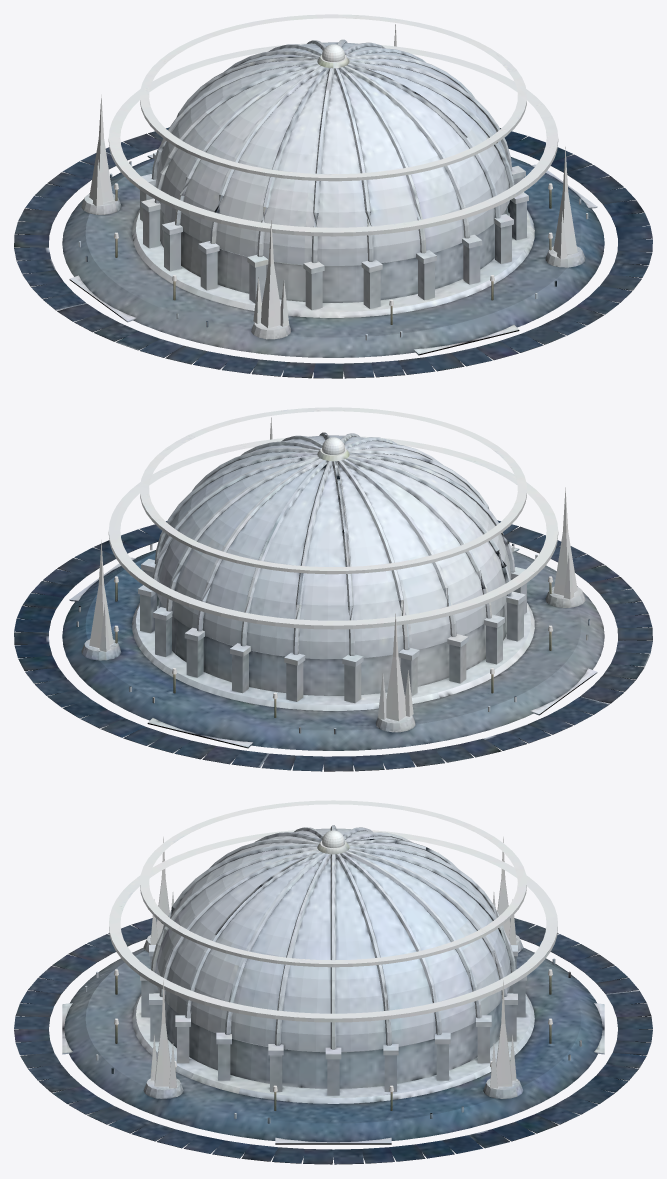
Rendered from ether_dome_low.glb.
The picture shows the model from 3 angles, top to bottom: view 1: azimuth 30°, elevation 25°; view 2: azimuth 150°, elevation 25°; view 3: azimuth 270°, elevation 25°; orthographic projection.
Visible parts, largest first — view 1: props_dome, site_ground, props_field, props_lights; view 2: props_dome, site_ground, props_field, props_lights; view 3: props_dome, site_ground, props_field, props_lights.
Boxes of the visible parts, box(x1,y1,x2,y2) form: props_dome: box(132, 39, 534, 317); site_ground: box(14, 127, 652, 378); props_field: box(81, 14, 585, 339); props_lights: box(114, 183, 552, 324); props_dome: box(132, 432, 534, 710); site_ground: box(14, 520, 652, 771); props_field: box(81, 407, 585, 732); props_lights: box(114, 576, 552, 717); props_dome: box(132, 825, 534, 1103); site_ground: box(14, 918, 652, 1164); props_field: box(109, 800, 557, 1098); props_lights: box(114, 969, 552, 1110).
Bounding box in the file's own units: 165 × 56.58 × 165.
Materials: 4 (4 with a texture image).
